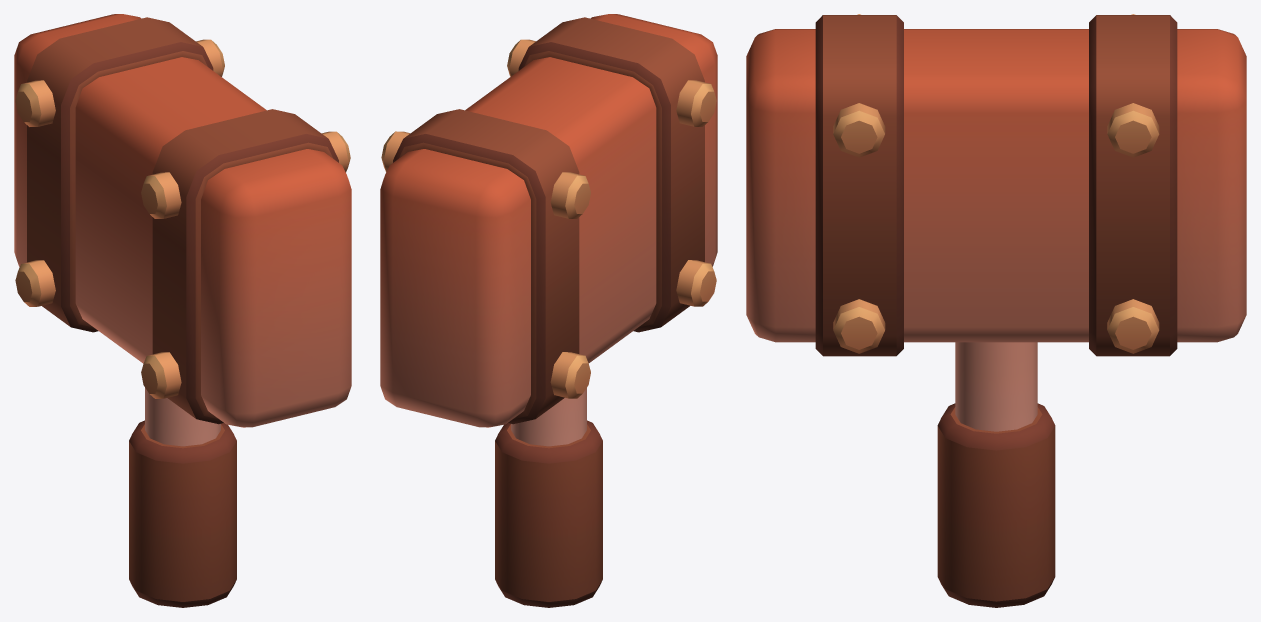
The model's file is Hammer_V1_02.fbx.
The picture shows the model from 3 angles, left to right: view 1: azimuth 30°, elevation 25°; view 2: azimuth 150°, elevation 25°; view 3: azimuth 270°, elevation 25°; orthographic projection. The views are drawn at different scales.
Visible parts, largest first — view 1: Hammer_V1_02; view 2: Hammer_V1_02; view 3: Hammer_V1_02.
Boxes of the visible parts, box(x1,y1,x2,y2) form: Hammer_V1_02: box(14, 14, 351, 607); Hammer_V1_02: box(380, 14, 717, 607); Hammer_V1_02: box(746, 14, 1246, 607).
Size of the model in its own units: 16.37 by 40.83 by 33.73.
